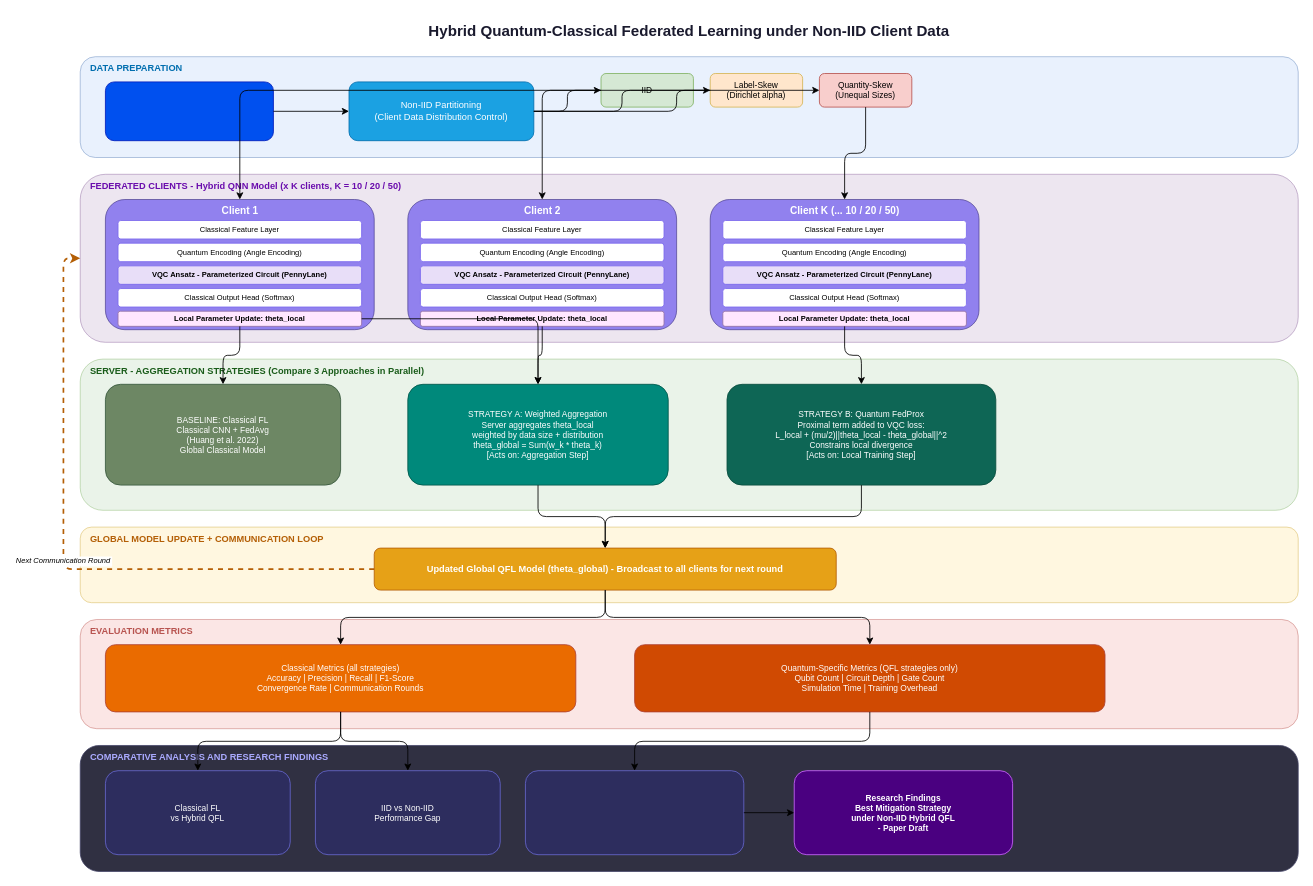
This 1313x886 diagram has some shape labels left out. The shapes that lost their labels are listed below. From the top down, each one's centre as x and y in pixels, then its label:
the point at 189,111: Benchmark Dataset Fashion-MNIST / MedMNIST
the point at 634,812: FedAvg vs Weighted Aggr. vs Quantum FedProx (Label-Skew + Qty-Skew)
